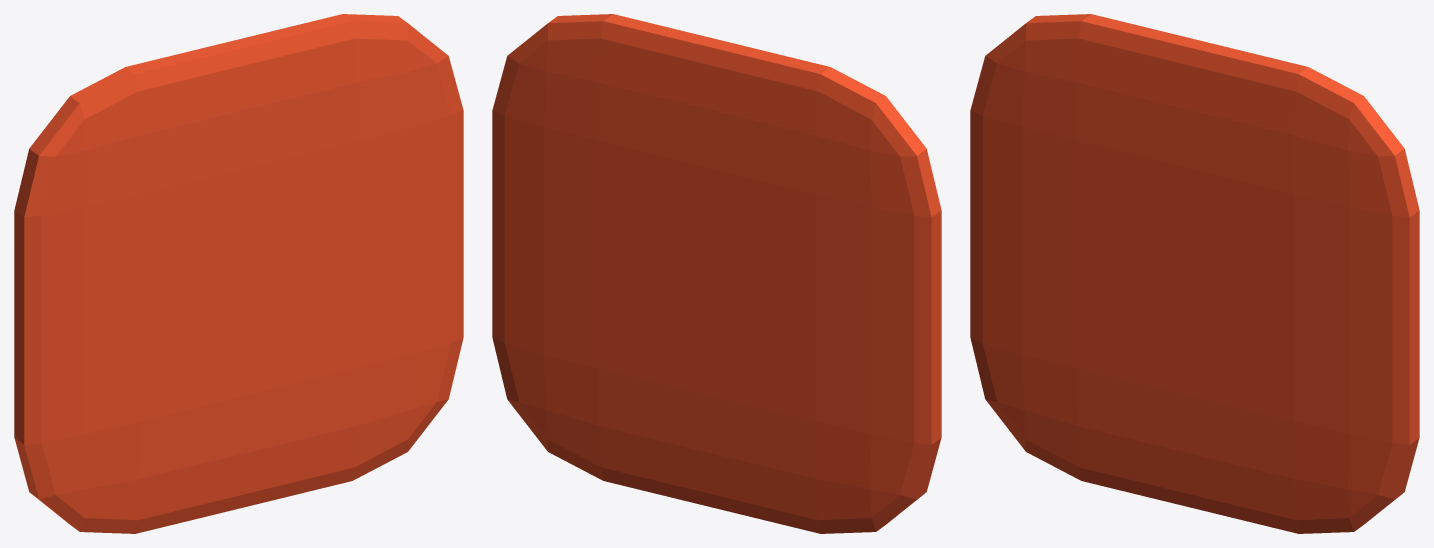
File: experience button.glb
3 views of the same model, side by side, from view 1: azimuth 30°, elevation 25°; view 2: azimuth 150°, elevation 25°; view 3: azimuth 330°, elevation 25° (orthographic).
Parts seen in each view (by area): view 1: Cube; view 2: Cube; view 3: Cube.
Part boxes in pixels (<box>): Cube: <box>14,14,463,533</box>; Cube: <box>492,14,941,533</box>; Cube: <box>970,14,1419,533</box>.
Bounding box in the file's own units: 11.19 × 11.19 × 0.8767.
